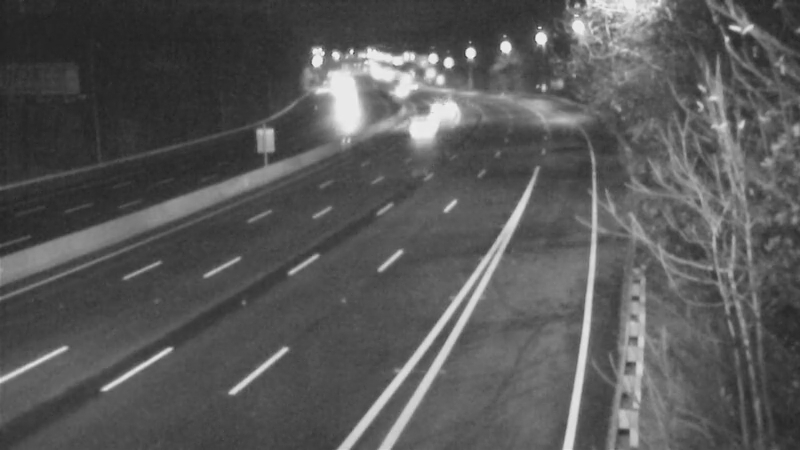vehicle: (377, 64, 427, 114), (422, 80, 472, 130), (397, 100, 447, 150)
